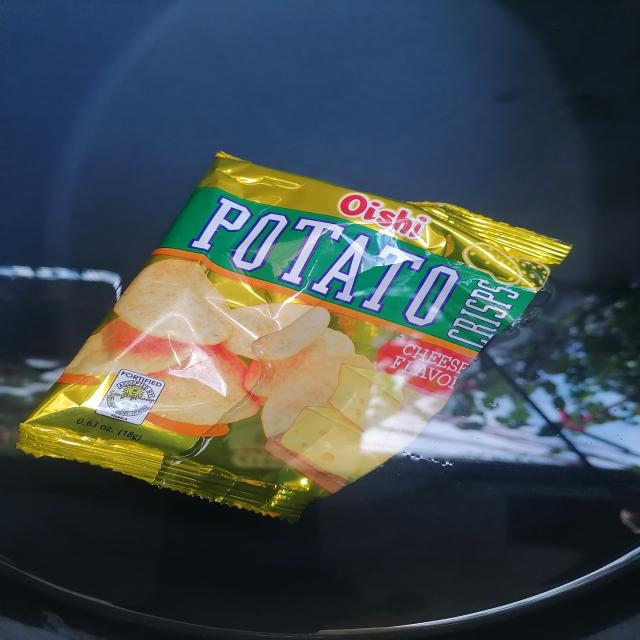Plastic Wrapper: (18, 151, 571, 516)
